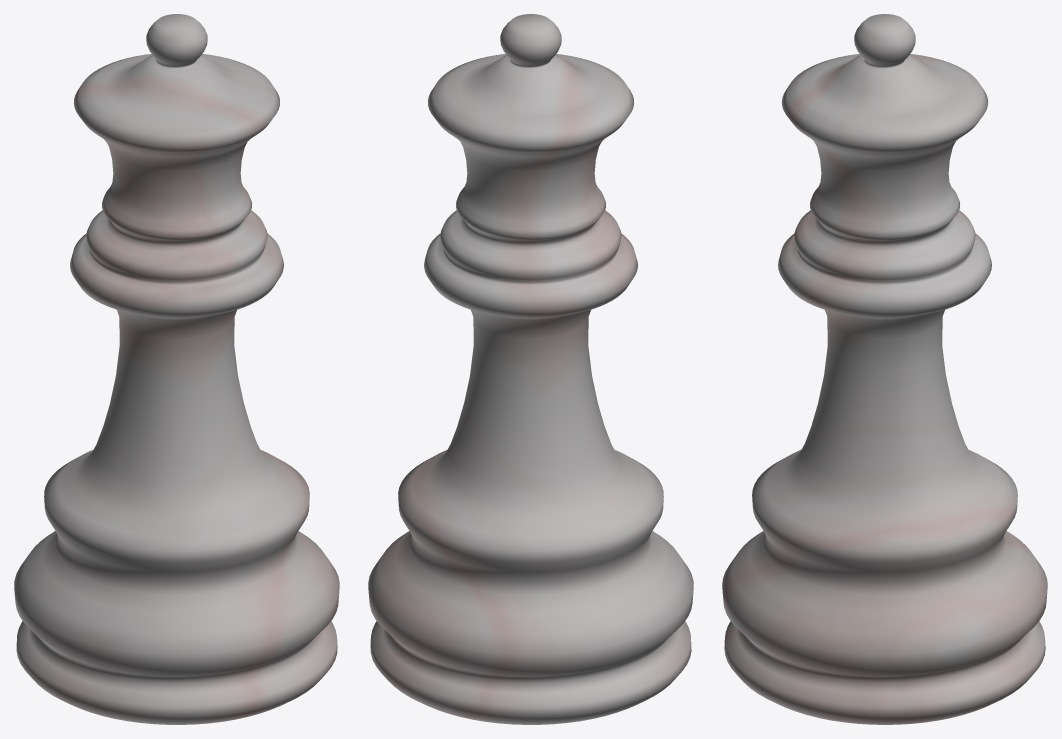
File: whiteQueen.fbx
3 views of the same model, side by side, from view 1: azimuth 30°, elevation 25°; view 2: azimuth 150°, elevation 25°; view 3: azimuth 270°, elevation 25° (orthographic).
Parts seen in each view (by area): view 1: whiteQueen; view 2: whiteQueen; view 3: whiteQueen.
Boxes of the visible parts, box(x1,y1,x2,y2) form: whiteQueen: box(14, 14, 339, 724); whiteQueen: box(368, 14, 693, 724); whiteQueen: box(722, 14, 1047, 724).
Size of the model in its own units: 74.03 by 163 by 74.03.
1 material, 1 textured.
